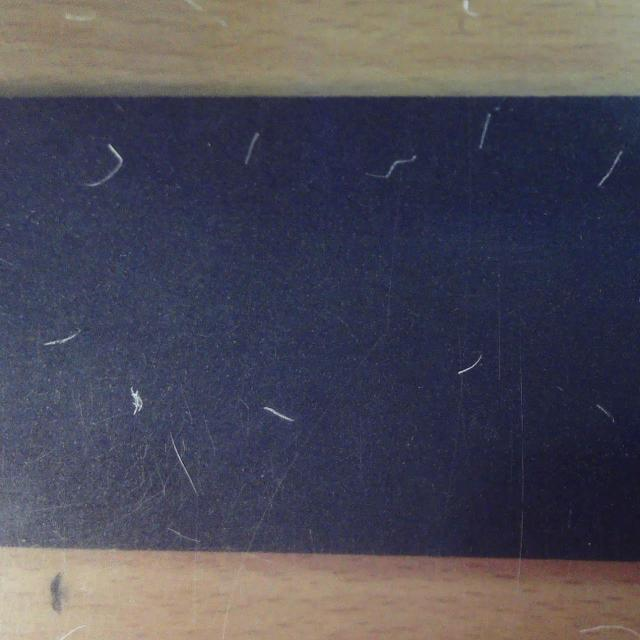defect: (166, 429, 207, 502), (81, 144, 123, 188), (364, 154, 419, 182), (598, 146, 625, 190), (238, 128, 266, 168), (473, 105, 494, 155), (40, 326, 79, 352), (263, 399, 297, 427), (594, 398, 621, 429), (455, 352, 486, 378), (125, 386, 149, 417)
